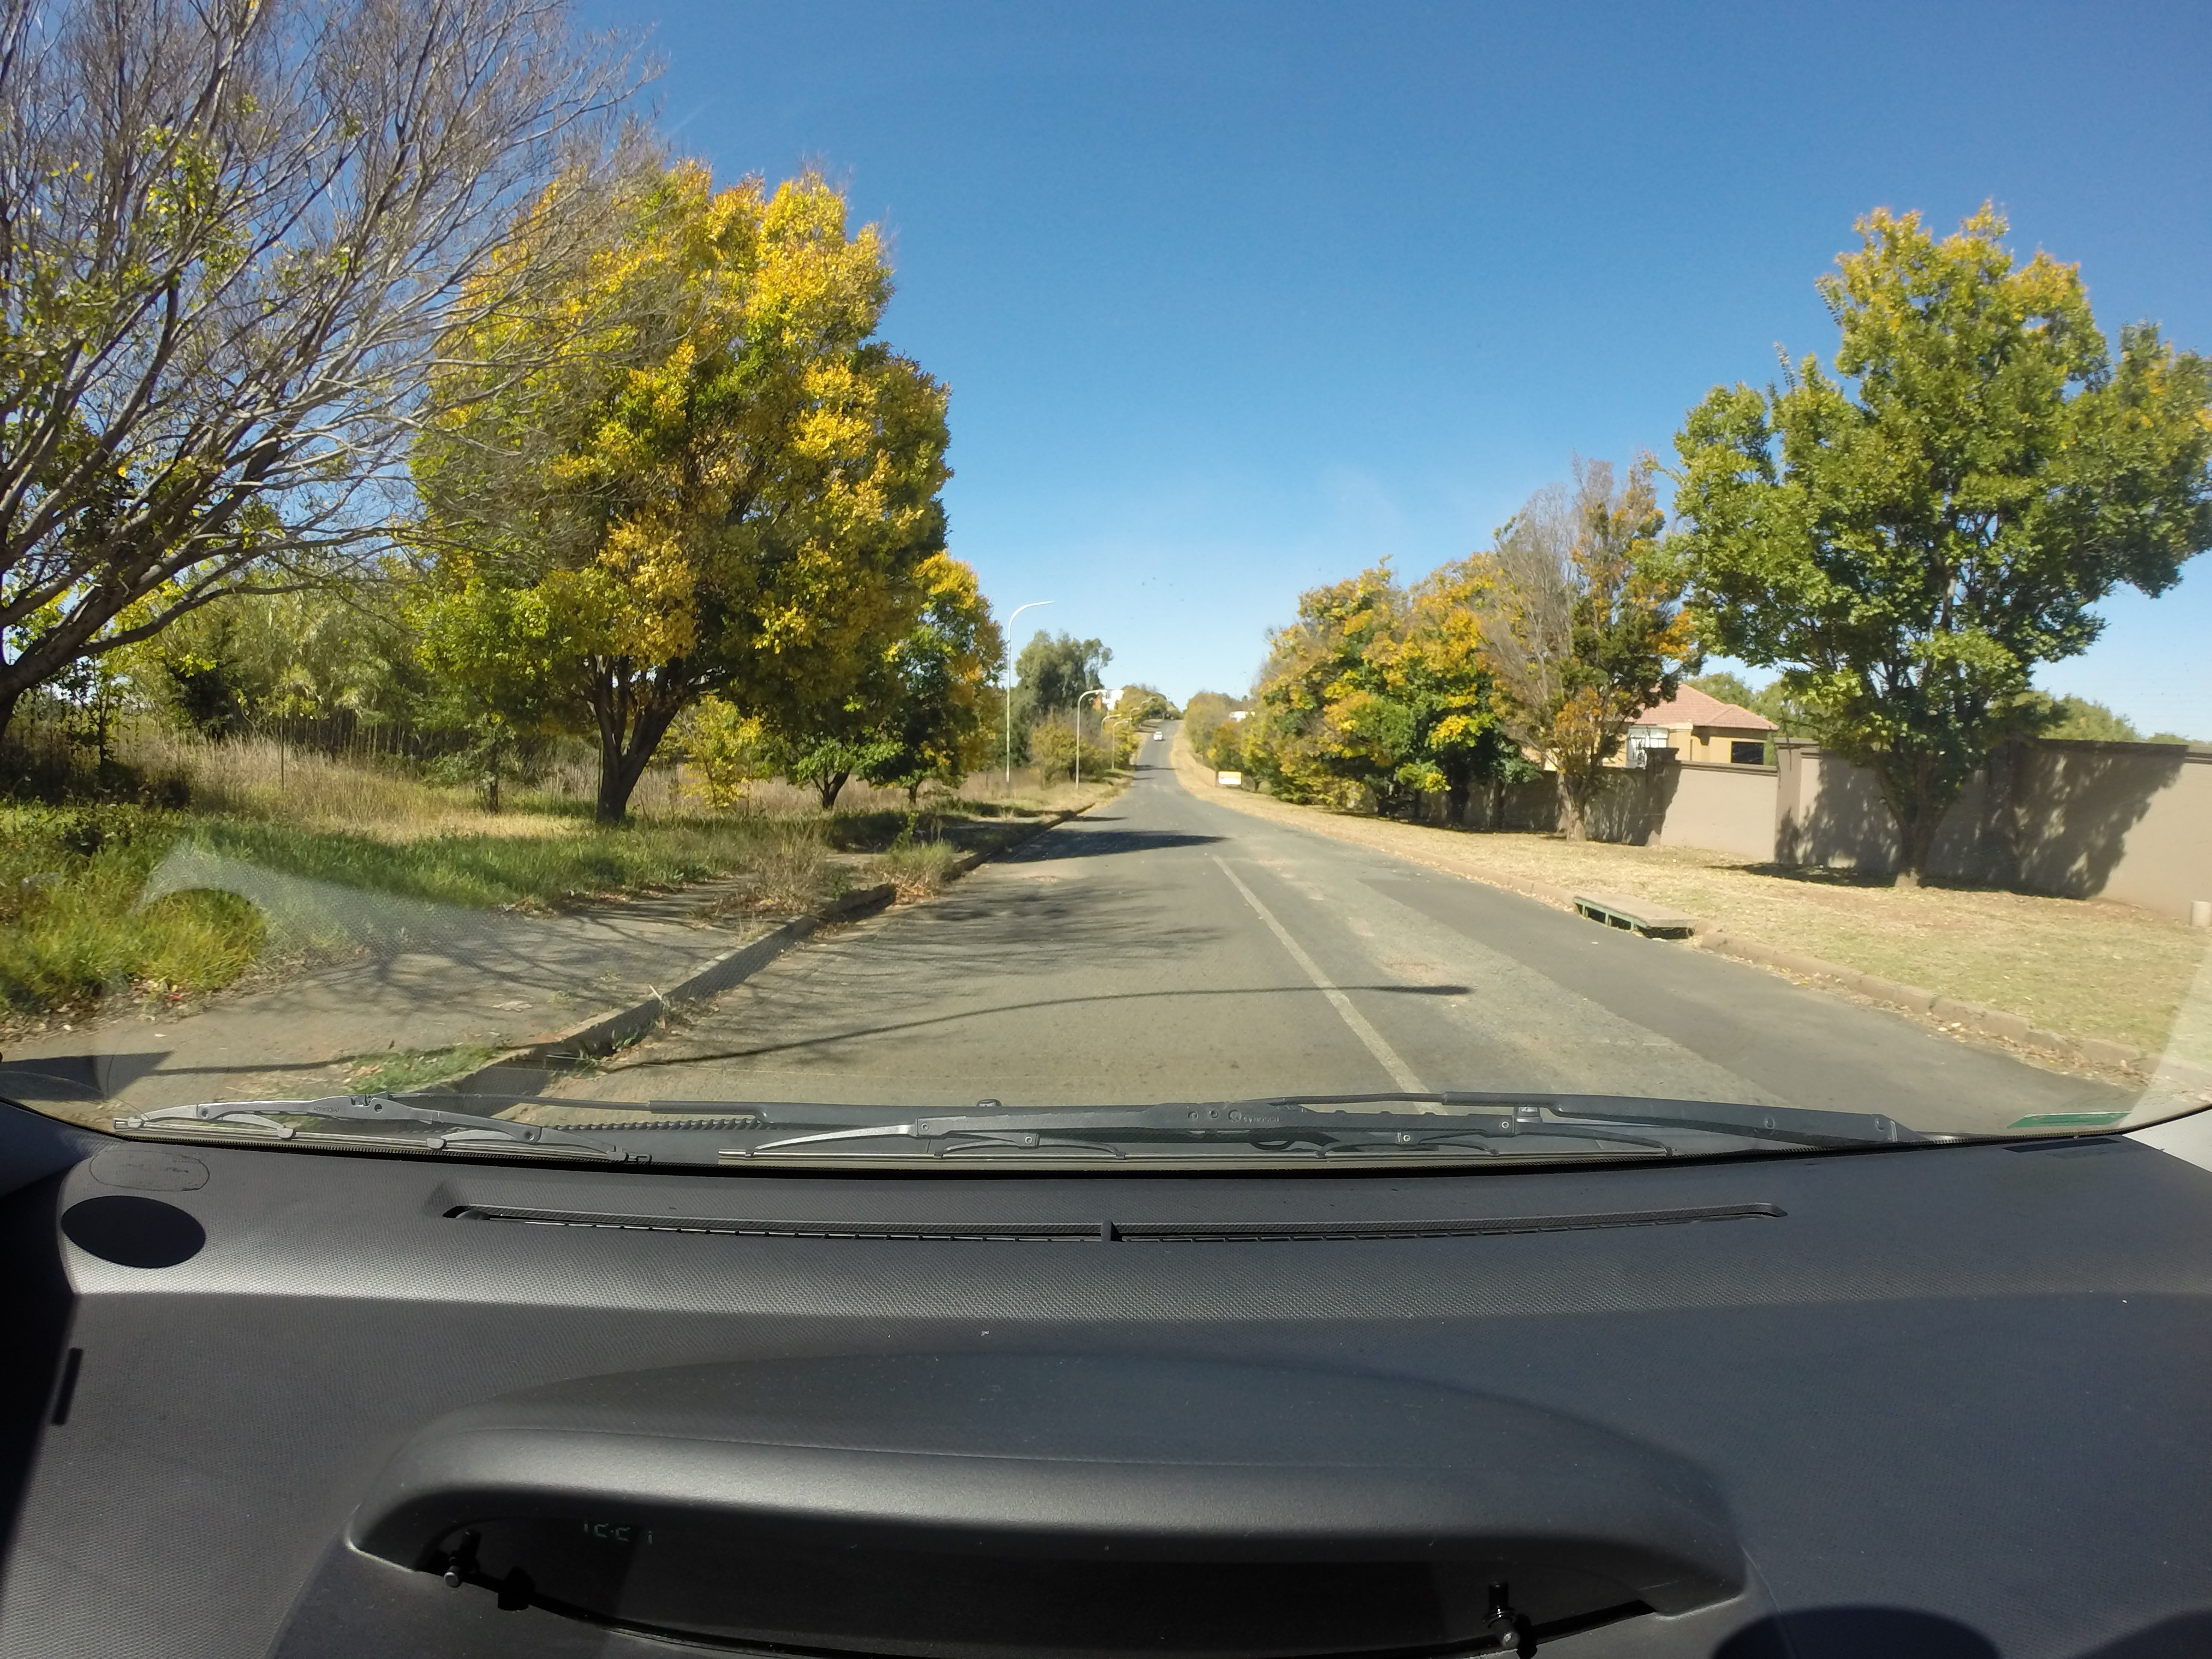pothole: (1385, 951, 1440, 978), (1024, 870, 1069, 889)
